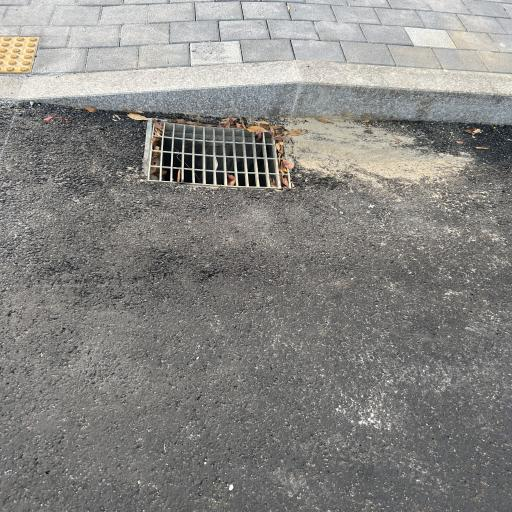drain: (146, 120, 291, 189)
